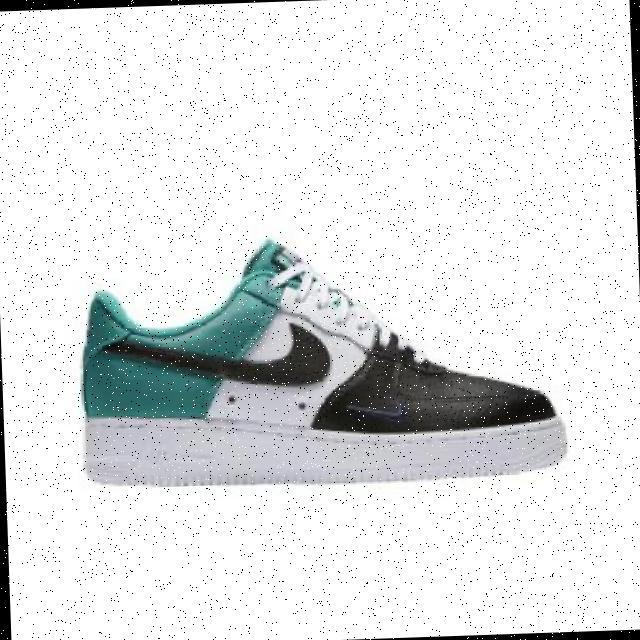Nike: (102, 318, 332, 394)
